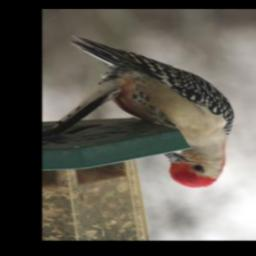Woodpecker: (65, 31, 233, 189)
